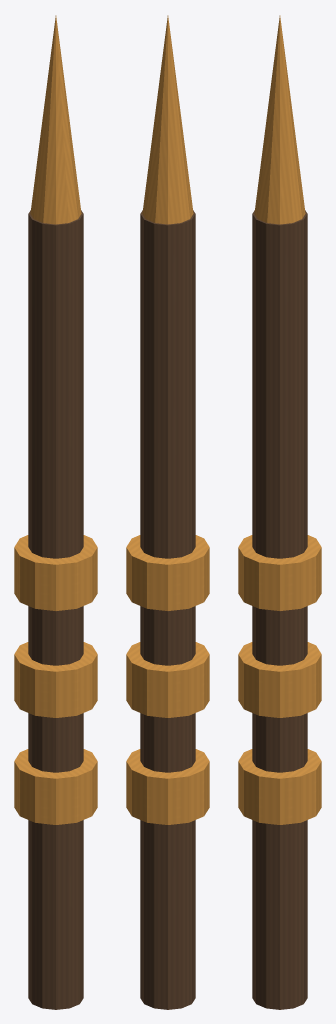
File: atlas100-s014-a05.glb
3 views of the same model, side by side, from view 1: azimuth 30°, elevation 25°; view 2: azimuth 150°, elevation 25°; view 3: azimuth 330°, elevation 25° (orthographic).
Parts seen in each view (by area): view 1: atlas100-s014-a05:part-000, atlas100-s014-a05:part-004, atlas100-s014-a05:part-002, atlas100-s014-a05:part-003, atlas100-s014-a05:part-001; view 2: atlas100-s014-a05:part-000, atlas100-s014-a05:part-004, atlas100-s014-a05:part-002, atlas100-s014-a05:part-003, atlas100-s014-a05:part-001; view 3: atlas100-s014-a05:part-000, atlas100-s014-a05:part-004, atlas100-s014-a05:part-002, atlas100-s014-a05:part-003, atlas100-s014-a05:part-001.
Boxes of the visible parts, x1,y1,x2,y2 form: atlas100-s014-a05:part-000: (28,210,83,1009); atlas100-s014-a05:part-004: (30,15,81,224); atlas100-s014-a05:part-002: (14,642,97,717); atlas100-s014-a05:part-003: (14,535,97,610); atlas100-s014-a05:part-001: (14,749,97,824); atlas100-s014-a05:part-000: (140,210,195,1009); atlas100-s014-a05:part-004: (142,15,193,224); atlas100-s014-a05:part-002: (126,642,209,717); atlas100-s014-a05:part-003: (126,535,209,610); atlas100-s014-a05:part-001: (126,749,209,824); atlas100-s014-a05:part-000: (252,210,307,1009); atlas100-s014-a05:part-004: (254,15,305,224); atlas100-s014-a05:part-002: (238,642,321,717); atlas100-s014-a05:part-003: (238,535,321,610); atlas100-s014-a05:part-001: (238,749,321,824).
Bounding box in the file's own units: 0.1158 × 1.51 × 0.1158.
2 materials, 2 textured.
